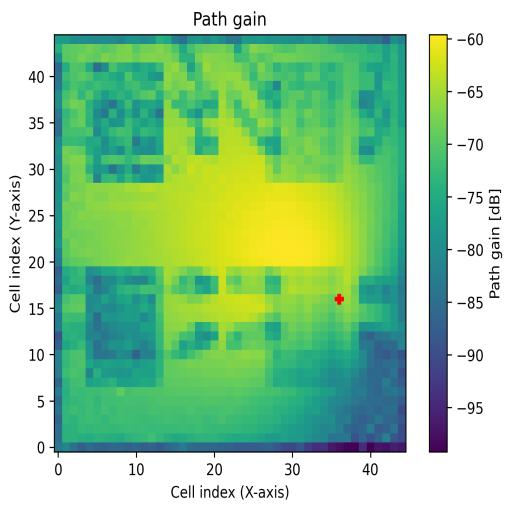Concrete: (265, 64, 343, 183)
Glass: (86, 63, 164, 182)
Metal: (265, 266, 344, 385)
Wood: (84, 269, 164, 387)
